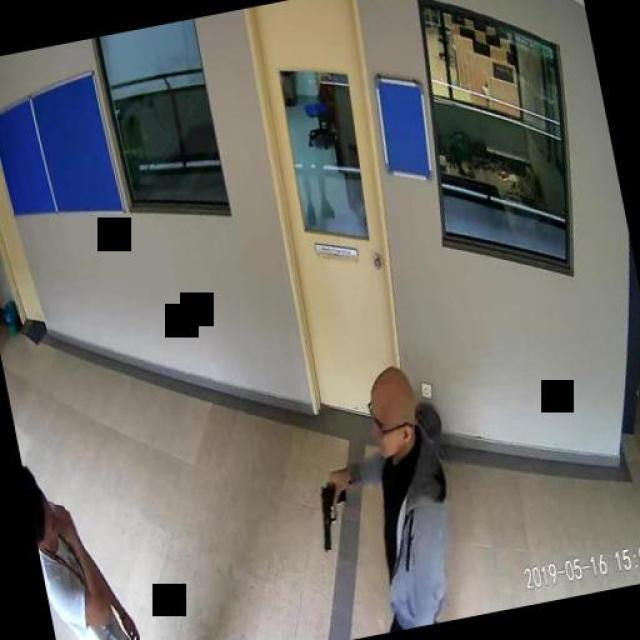gun: (310, 478, 354, 552)
